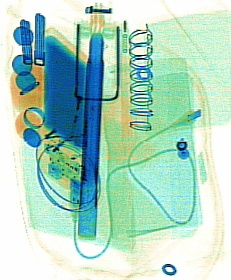lighter: (71, 73, 93, 147)
